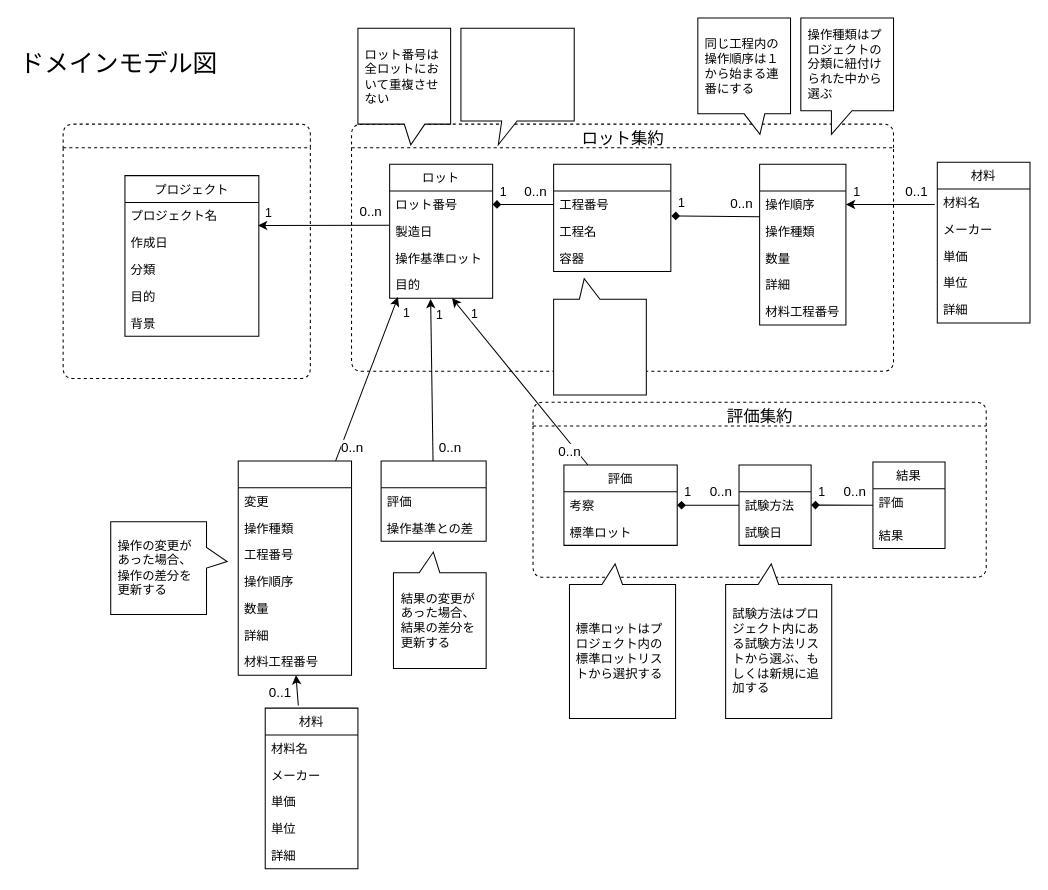
Image size: 1048x890. Some labels were removed from this diagram. Here are the shapes that lost their labels. From the top down, the box of each, then its label:
(460, 27, 574, 145): 操作基準ロットはプロジェクト内のロットから選択する
(553, 163, 671, 271): 工程
(62, 123, 310, 379): プロジェクト集約
(759, 163, 846, 325): 操作
(553, 278, 646, 395): 同じロット内の工程番号は１から始まる連番にする
(380, 460, 486, 541): 結果の差分
(738, 464, 811, 545): 試験
(237, 460, 352, 675): 操作の差分
